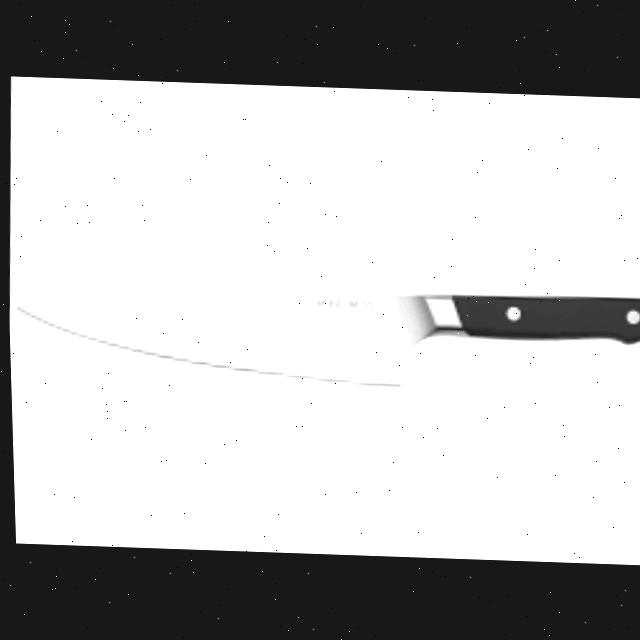Knife: (12, 273, 640, 394)
